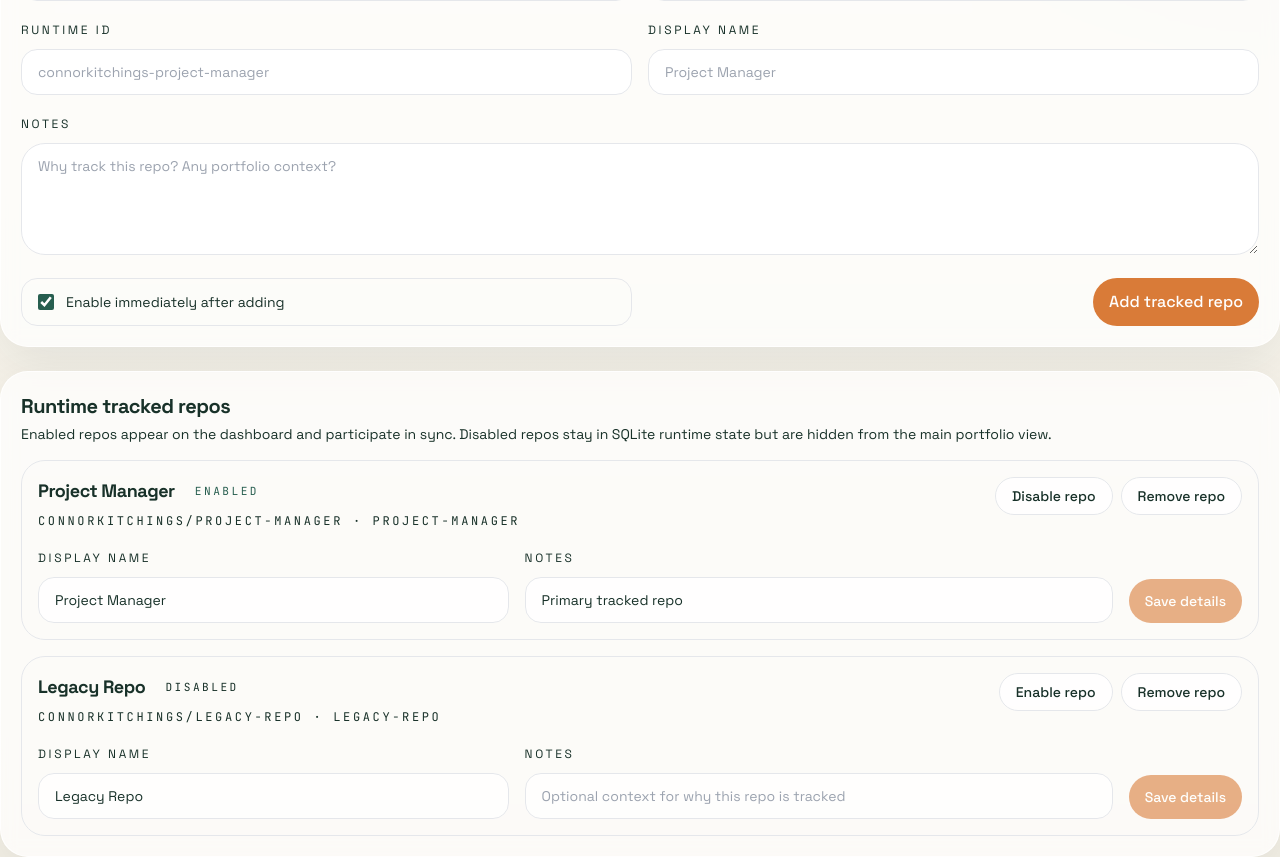
RepoSettingsPage › cancels removal when Cancel is clicked
The image size is (1280, 857).
(page scrolled)
Click the button "Remove repo" in the row of "Project Manager".
click(1181, 496)  # box [1120, 477, 1242, 515]
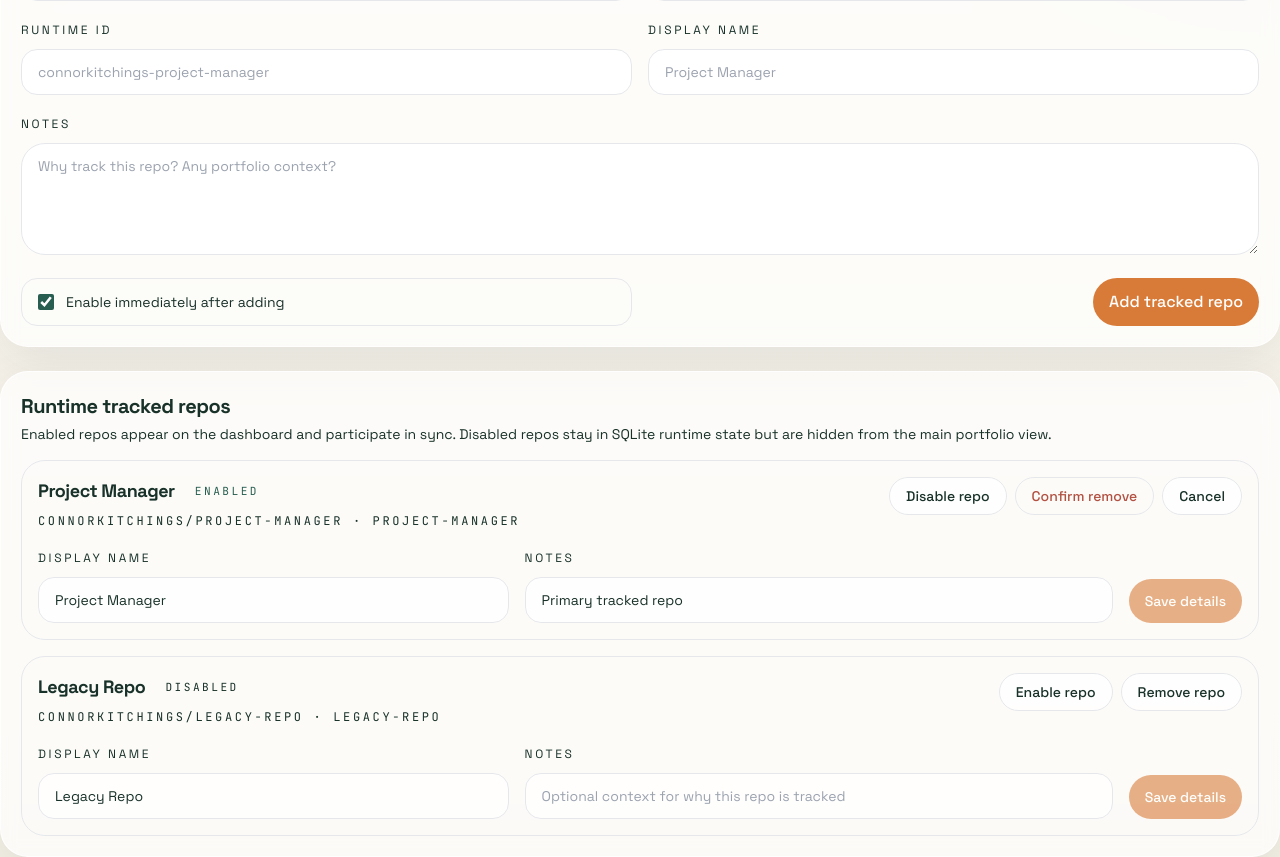
Result: the button "Confirm remove" is shown at [1015, 477, 1154, 515]
Click the button "Cancel".
click(1202, 496)  # box [1162, 477, 1242, 515]
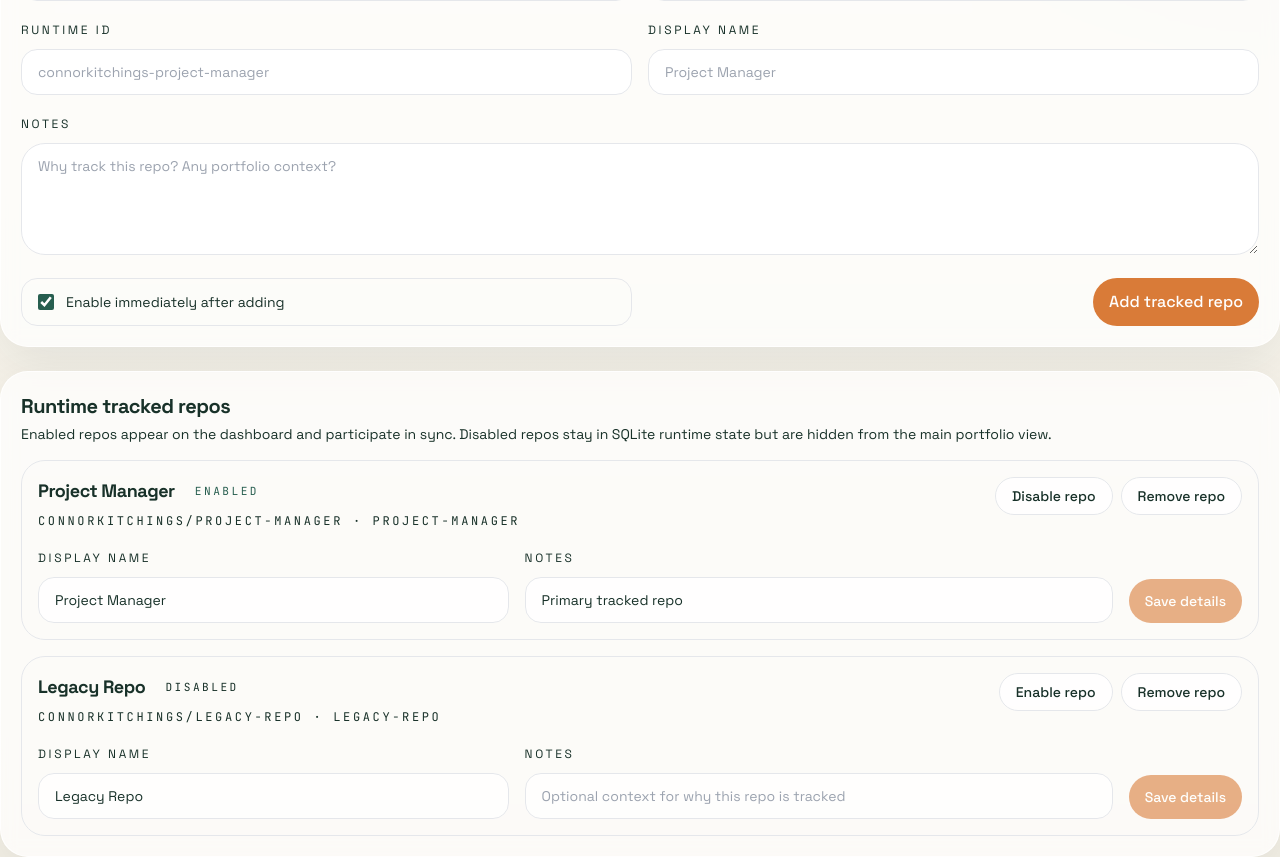
Result: the button "Confirm remove" is gone
